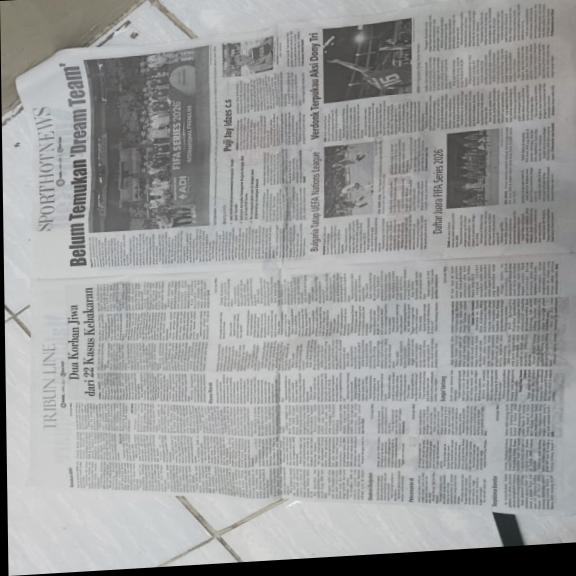Kertas: (20, 252, 576, 541), (291, 0, 571, 257), (18, 33, 289, 272), (17, 50, 92, 262)
